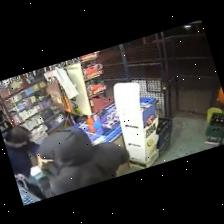person: (37, 128, 128, 197), (3, 126, 47, 199), (3, 126, 45, 178)
